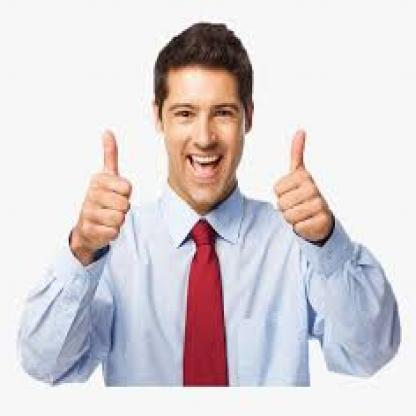thumb_up: (268, 126, 335, 242), (74, 124, 134, 250)
